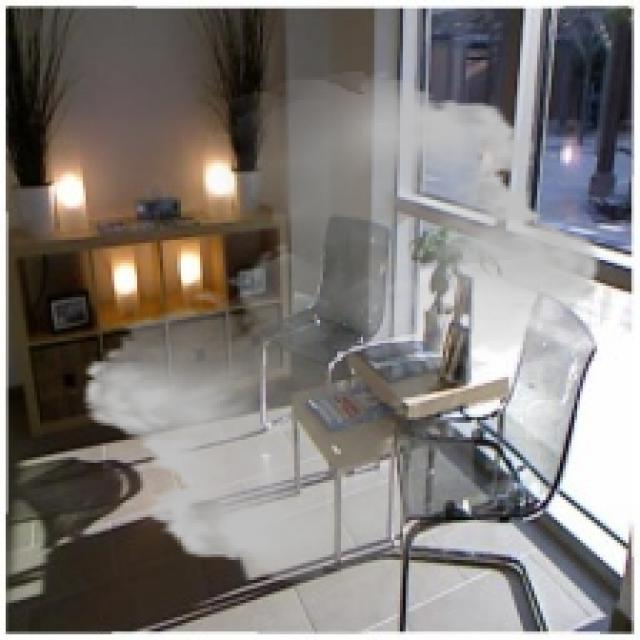smoke: (66, 71, 617, 588)
